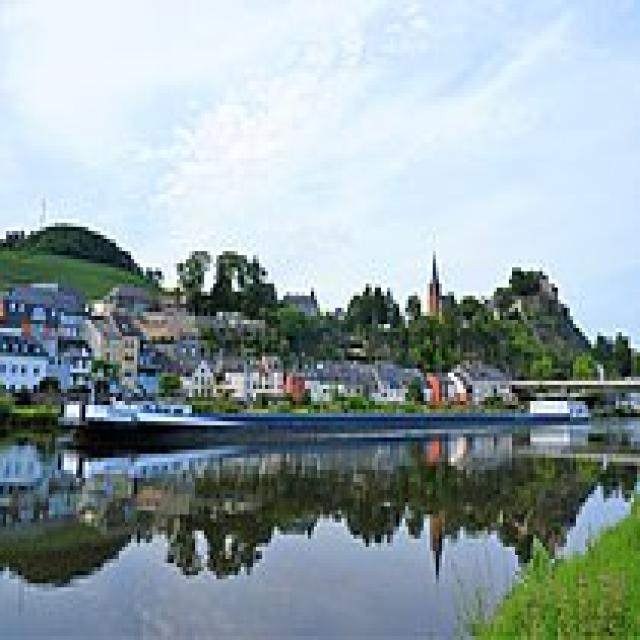Cargo: (46, 360, 588, 446)
